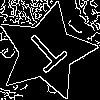T: (21, 26, 76, 82)
